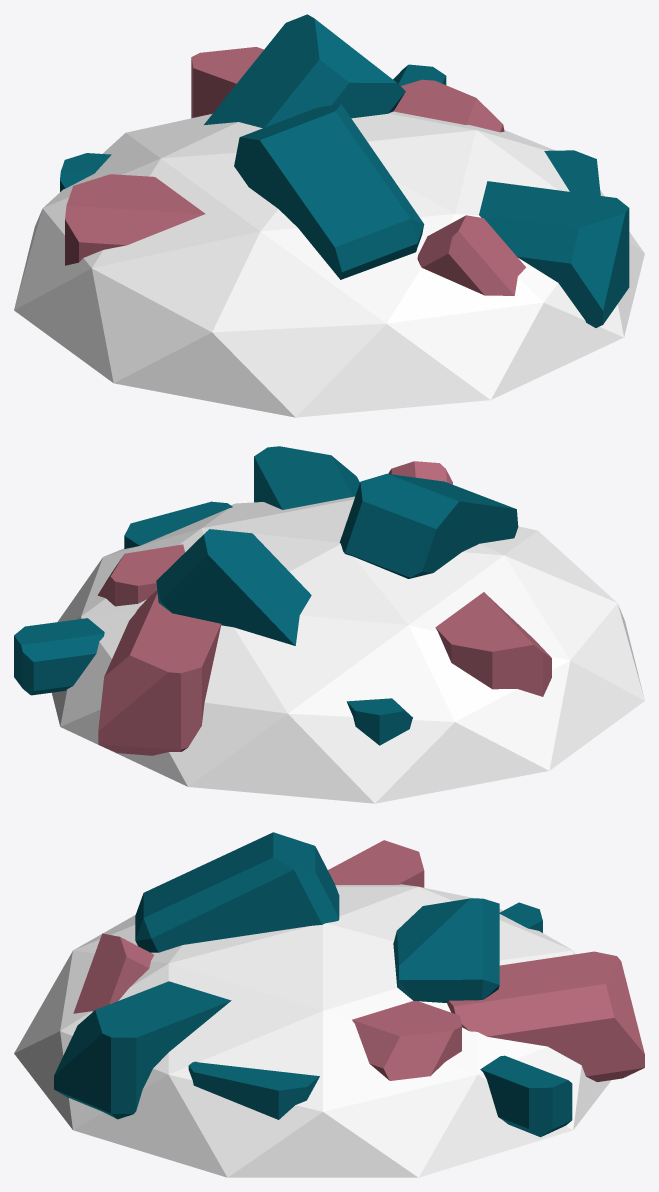
File: RoastedNutsUnrolled.fbx
3 renders of one model, top to bottom at view 1: azimuth 30°, elevation 25°; view 2: azimuth 150°, elevation 25°; view 3: azimuth 270°, elevation 25°, orthographic. The views are drawn at different scales.
Visible parts, largest first — view 1: Sugar, Roasted Nuts.001; view 2: Sugar, Roasted Nuts.001; view 3: Sugar, Roasted Nuts.001.
Part boxes in pixels (<box>): Sugar: <box>14,111,644,417</box>; Roasted Nuts.001: <box>60,14,629,327</box>; Sugar: <box>52,496,644,803</box>; Roasted Nuts.001: <box>14,446,551,755</box>; Sugar: <box>14,884,611,1177</box>; Roasted Nuts.001: <box>54,832,644,1137</box>.
Bounding box in the file's own units: 36.21 × 12.68 × 38.85.
